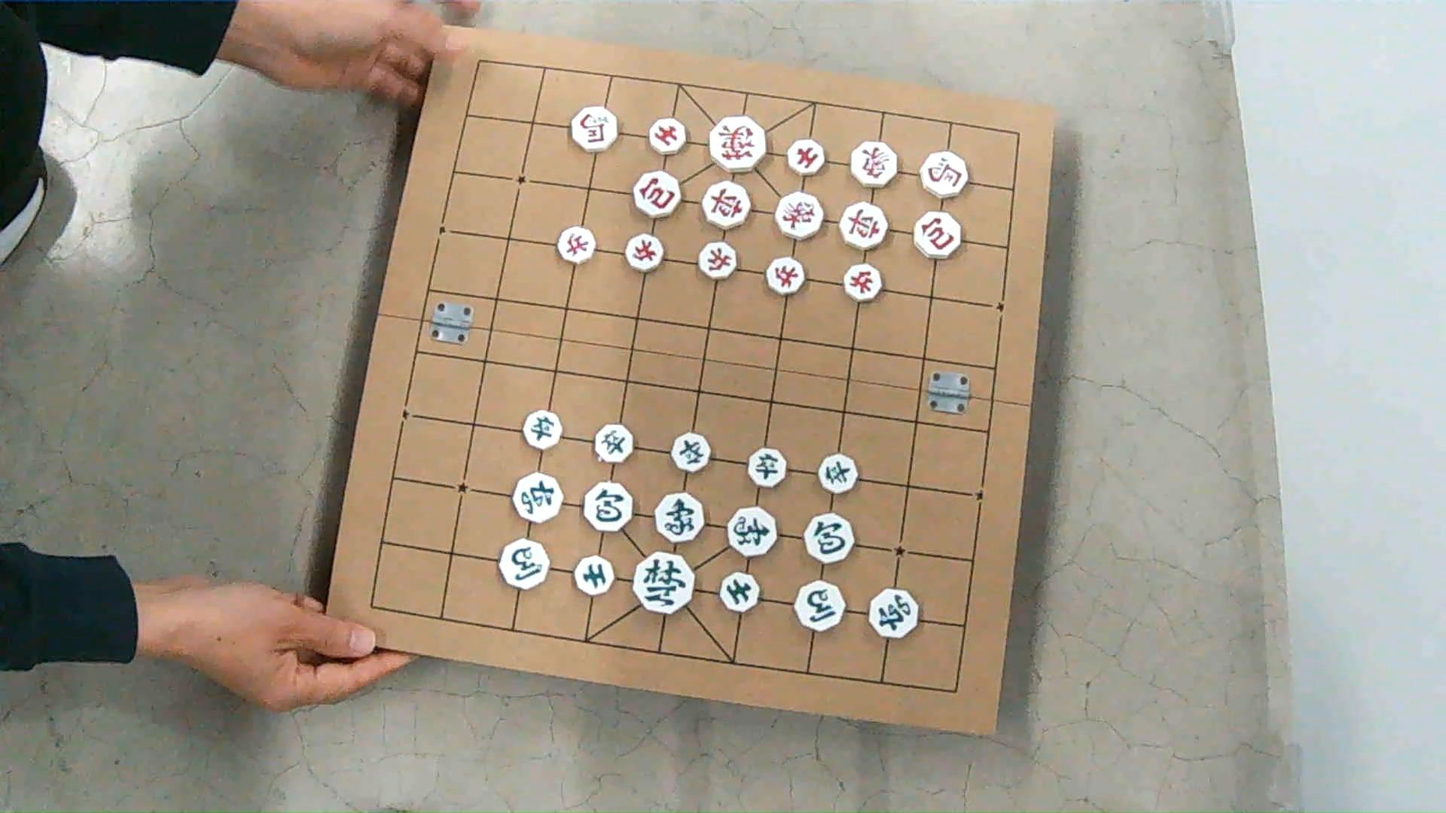cha_green: (868, 589, 918, 638), (513, 473, 562, 522)
cha_red: (701, 181, 749, 230), (840, 202, 887, 249)
jol_green: (594, 424, 633, 463), (819, 454, 857, 493), (748, 448, 786, 487), (672, 433, 710, 472), (523, 410, 561, 449)
jol_red: (844, 264, 883, 302), (626, 233, 663, 272), (767, 257, 804, 294), (557, 226, 594, 263), (699, 242, 736, 279)
ma_green: (795, 581, 844, 631), (500, 539, 548, 589)
ma_red: (920, 151, 968, 198), (572, 106, 618, 151)
po_green: (805, 513, 854, 563), (584, 482, 633, 531)
po_red: (632, 172, 680, 218), (914, 212, 960, 258)
sa_green: (720, 572, 758, 612), (575, 556, 613, 595)
sa_red: (787, 139, 825, 175), (648, 118, 685, 154)
sang_green: (655, 492, 704, 542), (728, 507, 776, 556)
sang_red: (775, 192, 822, 239), (850, 142, 897, 187)
wang_green: (633, 551, 694, 614)
wang_red: (709, 116, 765, 172)
